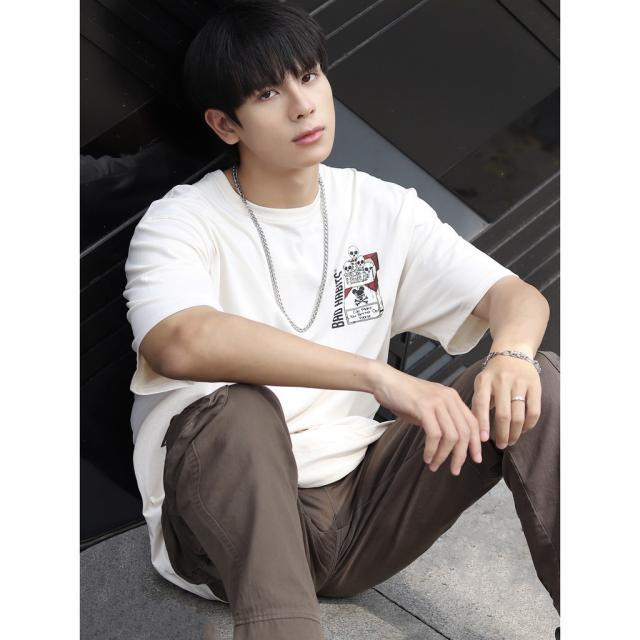Shirt: (117, 166, 512, 484)
